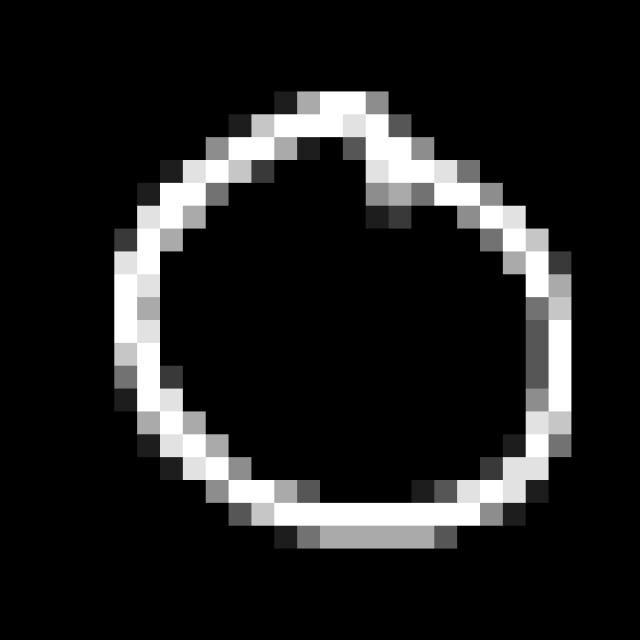zero -0-: (87, 73, 593, 578)
